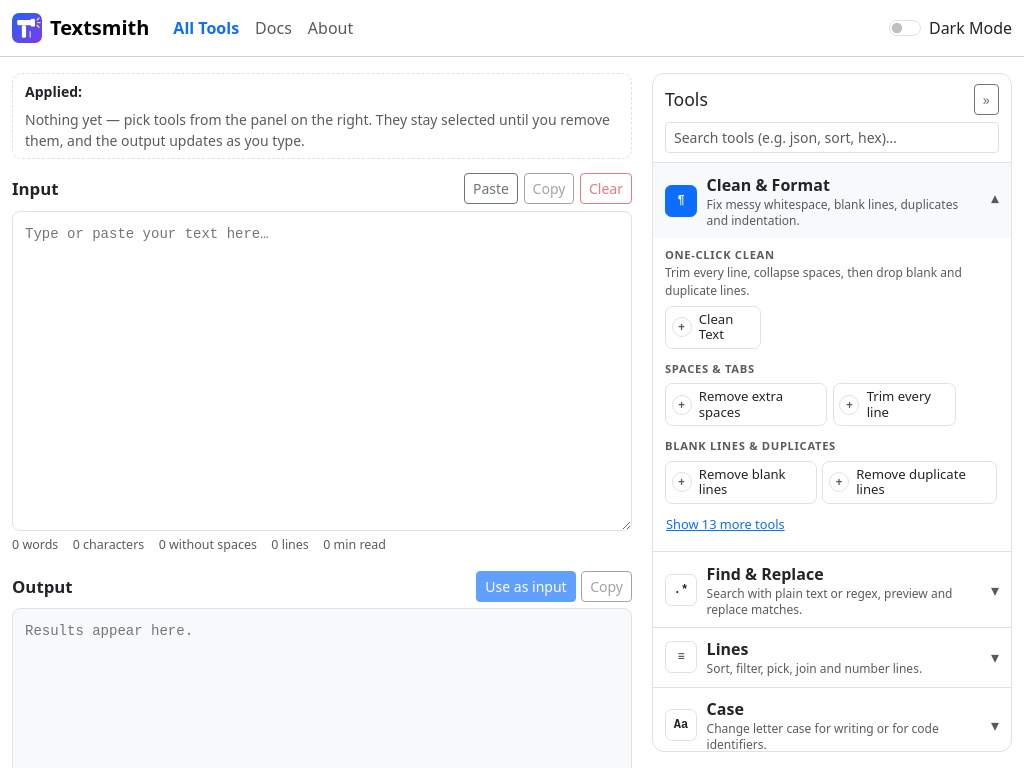
Test: tools page › only one section is open at a time
Click the text "Lines" at (728, 649), box [707,638,748,660]
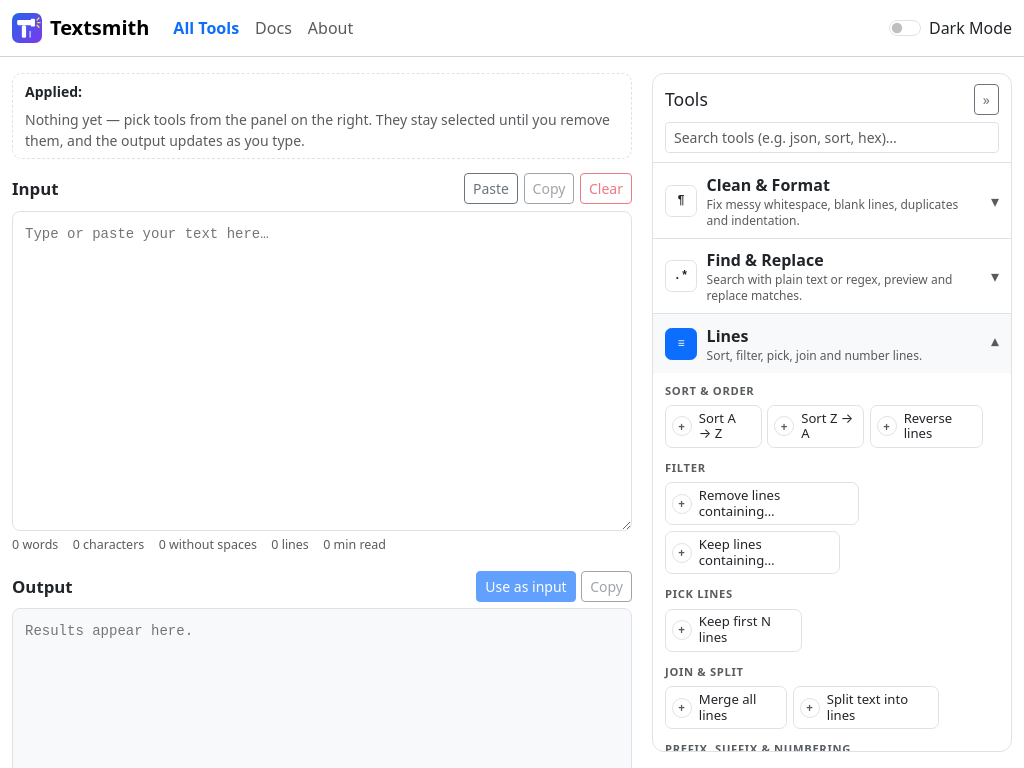
Result: the button "Lines" is expanded at [653,314,1011,373]
Result: the button "Clean & Format" is collapsed at [653,163,1011,238]
Click the text "Lines" at (728, 336), box [707,325,748,347]
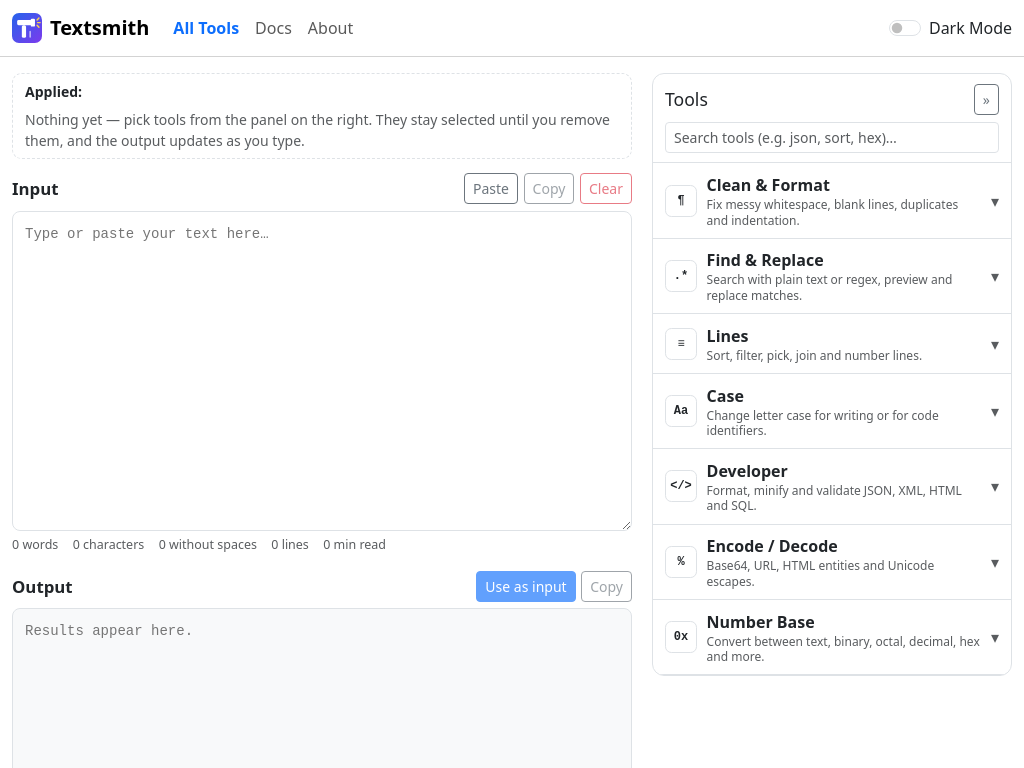
Result: the button "Lines" is collapsed at [653,314,1011,373]
